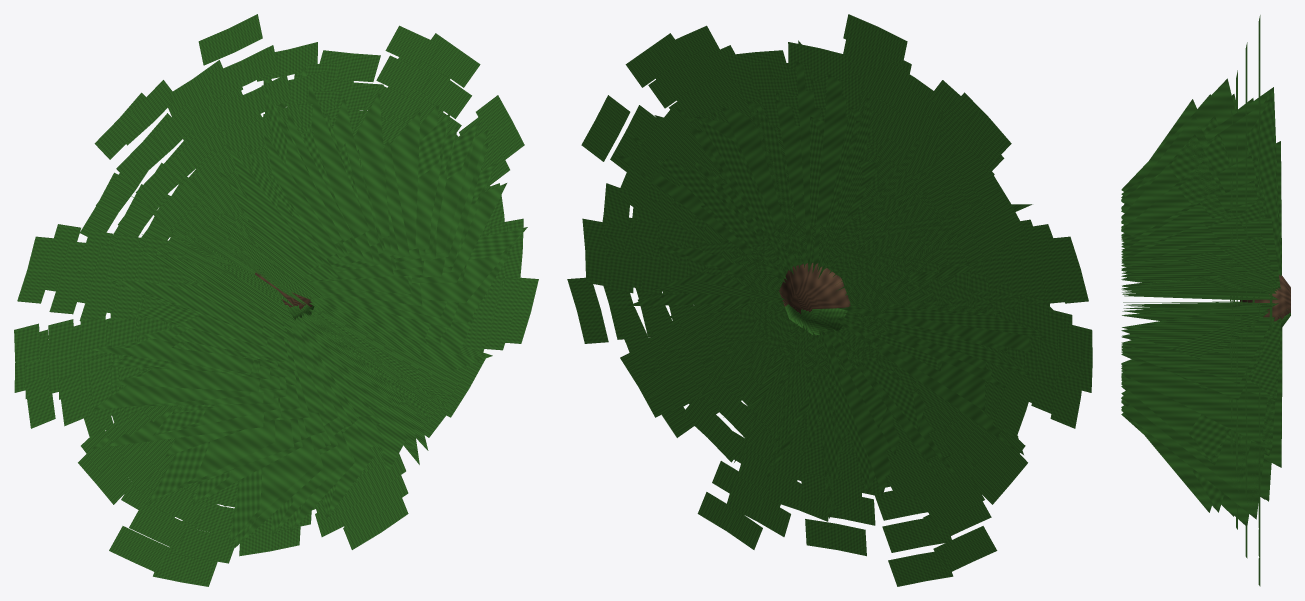
Rendered from veg_ground_fern_01.obj.
3 views of the same model, side by side, from view 1: azimuth 30°, elevation 25°; view 2: azimuth 150°, elevation 25°; view 3: azimuth 270°, elevation 25° (orthographic). The views are drawn at different scales.
Parts seen in each view (by area): view 1: veg_ground_fern_01; view 2: veg_ground_fern_01; view 3: veg_ground_fern_01.
Boxes of the visible parts, x1,y1,x2,y2 form: veg_ground_fern_01: [14, 14, 538, 586]; veg_ground_fern_01: [567, 14, 1092, 586]; veg_ground_fern_01: [1121, 15, 1290, 586].
Size of the model in its own units: 2.12 by 2.17 by 0.65.
1 material, 1 textured.
